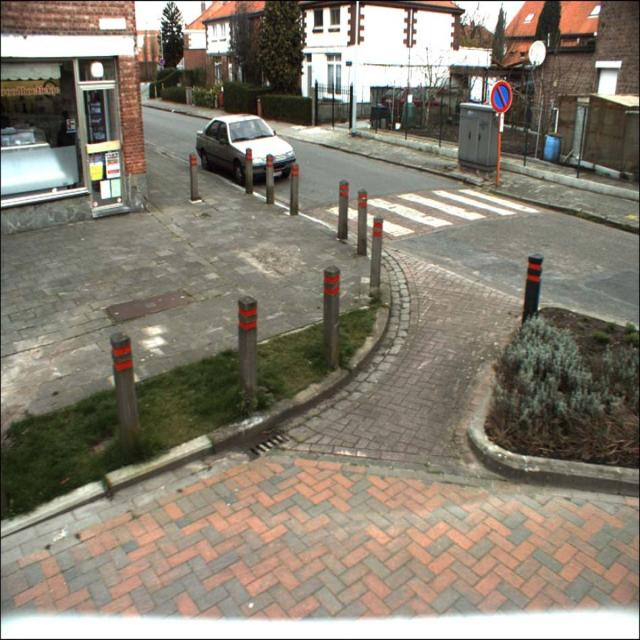parkyasak: (490, 81, 513, 111)
